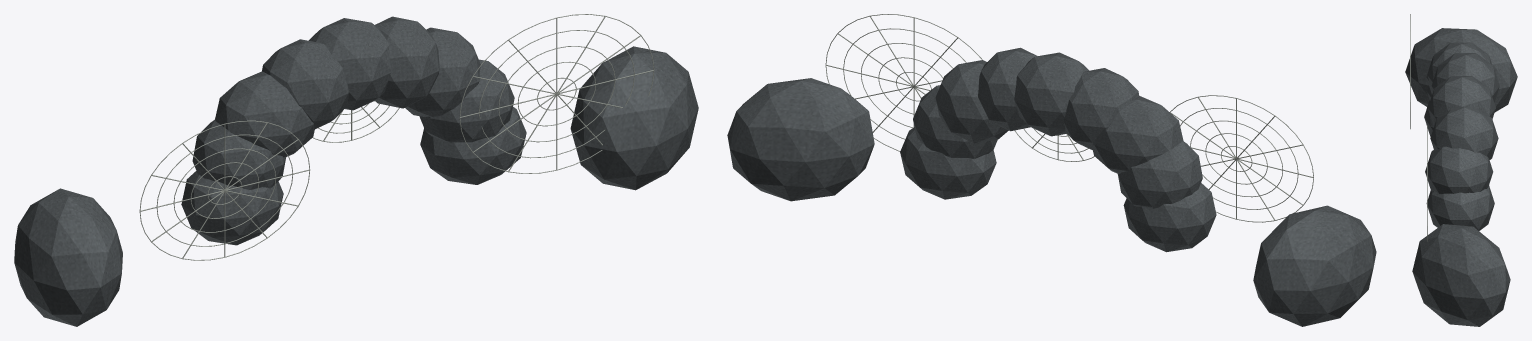
The model's file is dungeonWeb-v1.glb.
The picture shows the model from 3 angles, left to right: view 1: azimuth 30°, elevation 25°; view 2: azimuth 150°, elevation 25°; view 3: azimuth 270°, elevation 25°; orthographic projection. The views are drawn at different scales.
Visible parts, largest first — view 1: Weathered cave rock, Fractured rock outcrop, Web spoke 0 0; view 2: Weathered cave rock, Fractured rock outcrop, Web spoke 0 0; view 3: Weathered cave rock, Fractured rock outcrop, Web spoke 0 0.
Part boxes in pixels (x1,y1,x2,y2): Weathered cave rock: (181, 16, 526, 245); Fractured rock outcrop: (14, 46, 698, 326); Web spoke 0 0: (139, 14, 654, 260); Weathered cave rock: (900, 47, 1216, 252); Fractured rock outcrop: (727, 78, 1376, 326); Web spoke 0 0: (825, 14, 1313, 222); Weathered cave rock: (1424, 42, 1499, 230); Fractured rock outcrop: (1405, 28, 1517, 326); Web spoke 0 0: (1410, 14, 1427, 241).
Size of what is drawn, in the model's own units: 16.86 by 5.39 by 3.3.
Materials: 2 (2 with a texture image).
